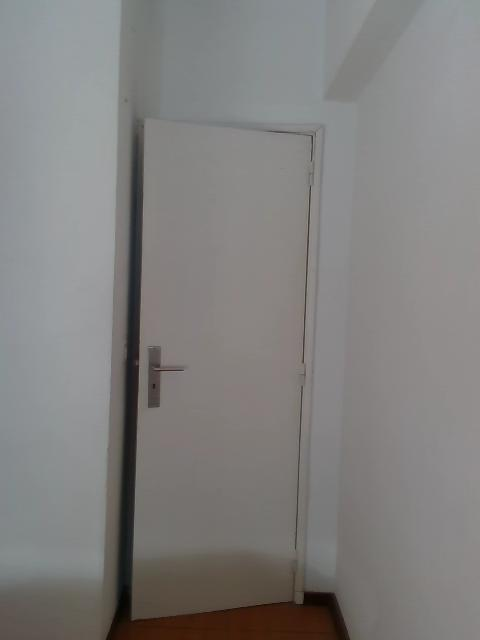door: (128, 119, 311, 619)
